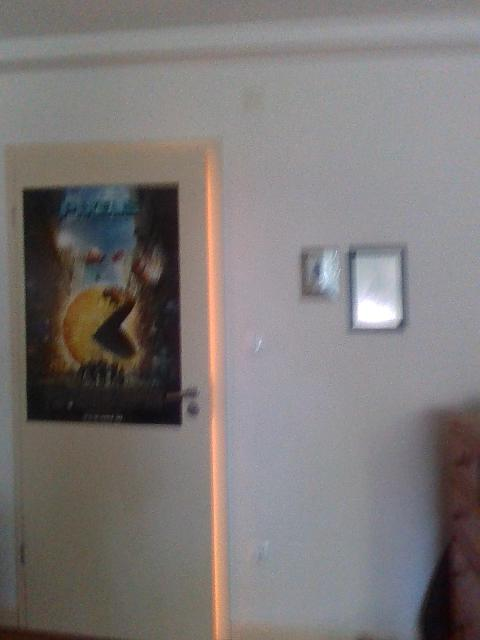door: (10, 152, 214, 640)
